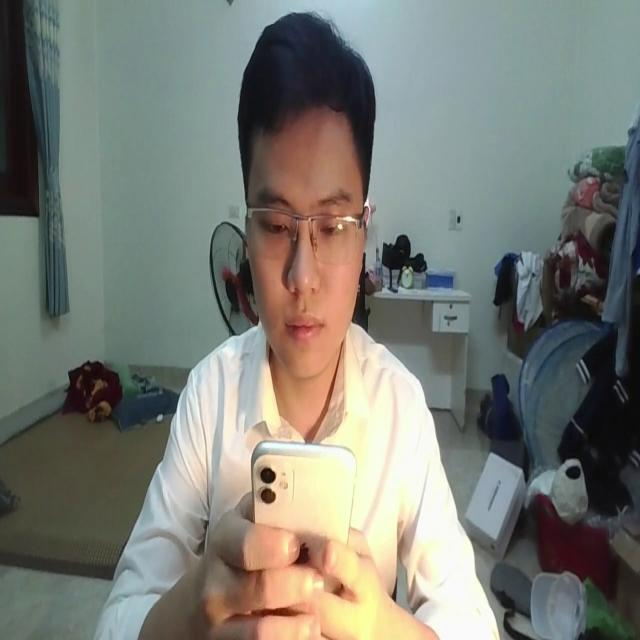phone: (248, 425, 359, 570)
student: (86, 15, 496, 640)
